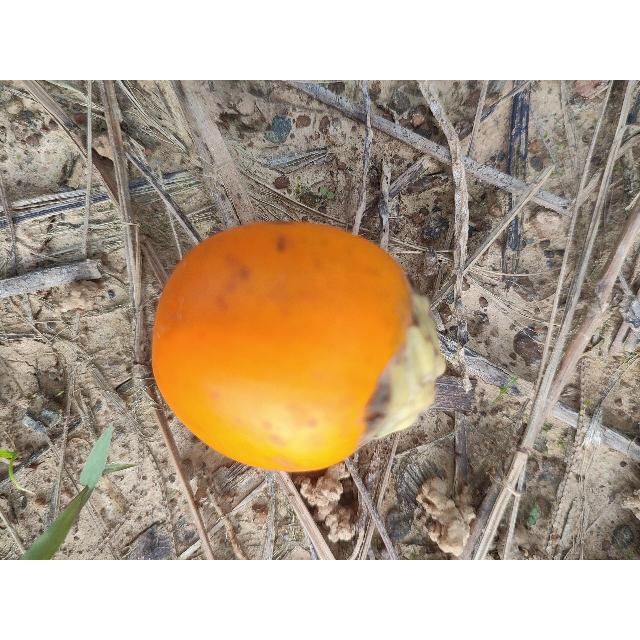good: (150, 222, 447, 475)
